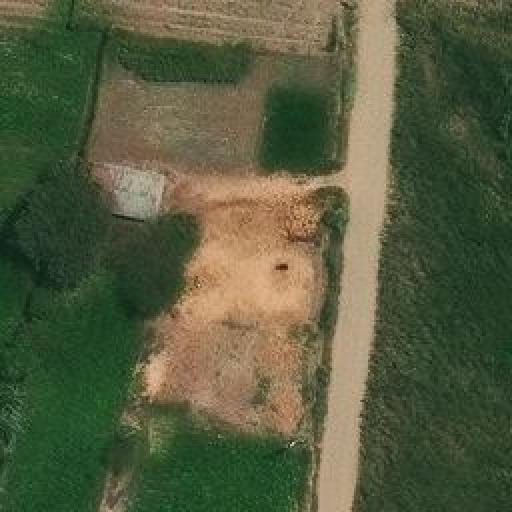manzanas: (76, 155, 171, 227)
